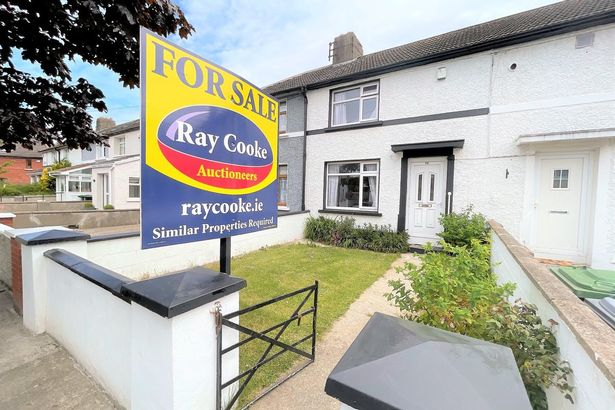property sign: (131, 18, 284, 259)
